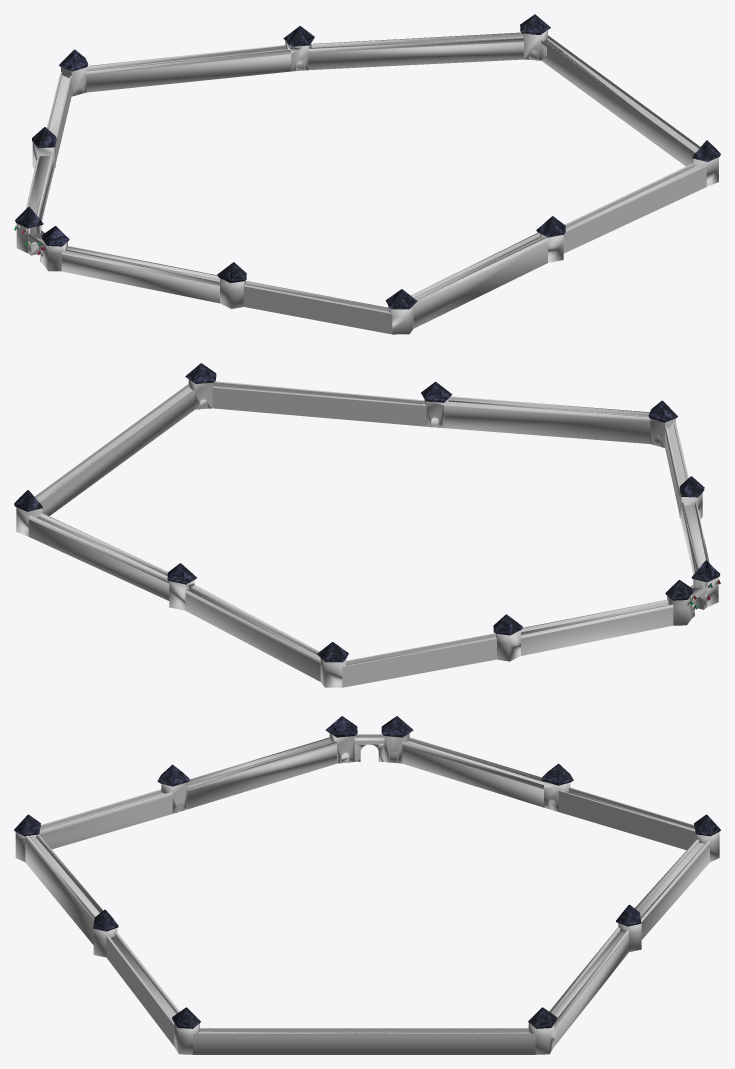
The model's file is castle wall.fbx.
3 renders of one model, top to bottom at view 1: azimuth 30°, elevation 25°; view 2: azimuth 150°, elevation 25°; view 3: azimuth 270°, elevation 25°, orthographic. The views are drawn at different scales.
Parts seen in each view (by area): view 1: Cube.005, Cube.006, Cube.007, Cube.002; view 2: Cube.005, Cube.007, Cube.006, Cube.002; view 3: Cube.005, Cube.007, Cube.006, Cube.002.
Boxes of the visible parts, bbox=[...] form: Cube.005: bbox=[16, 30, 718, 334]; Cube.006: bbox=[283, 14, 720, 237]; Cube.007: bbox=[32, 49, 417, 309]; Cube.002: bbox=[15, 206, 69, 246]; Cube.005: bbox=[16, 379, 718, 687]; Cube.007: bbox=[317, 400, 704, 662]; Cube.006: bbox=[14, 363, 452, 584]; Cube.002: bbox=[665, 560, 720, 600]; Cube.005: bbox=[15, 733, 719, 1054]; Cube.007: bbox=[14, 763, 720, 836]; Cube.006: bbox=[93, 904, 641, 1028]; Cube.002: bbox=[325, 716, 413, 737].
Size of the model in its own units: 6681 by 494 by 6542.
